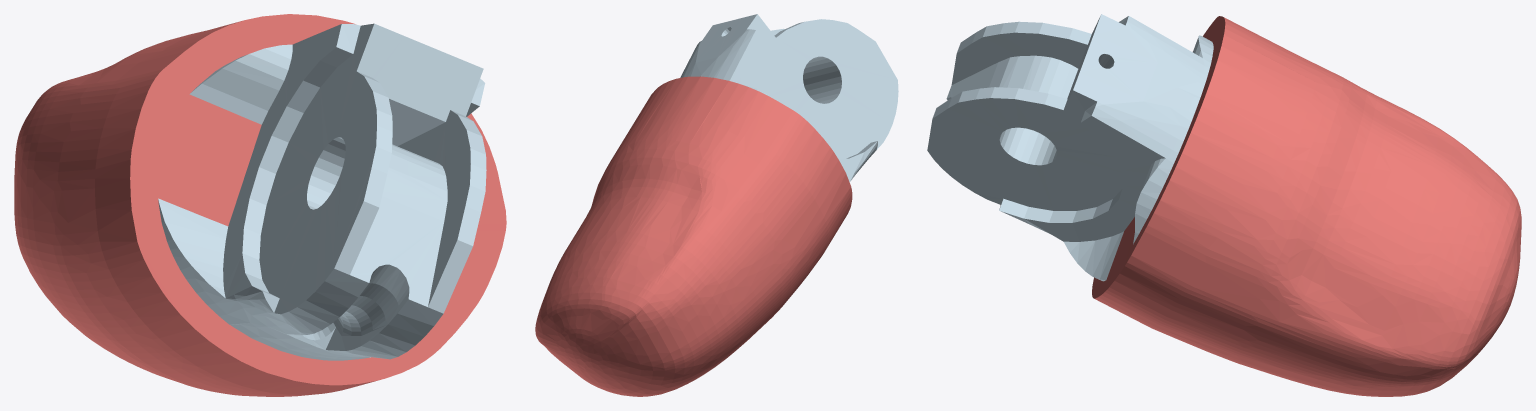
Rendered from i02_leftHand_indexTip_visual.obj.balanced.glb.
3 renders of one model, left to right at view 1: azimuth 30°, elevation 25°; view 2: azimuth 150°, elevation 25°; view 3: azimuth 270°, elevation 25°, orthographic. The views are drawn at different scales.
Bounding box in the file's own units: 0.1889 × 0.2409 × 0.3548.
